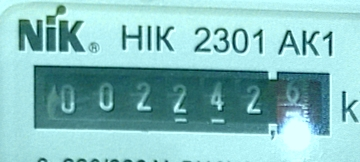0: (58, 82, 78, 115), (97, 80, 115, 113)
2: (171, 81, 189, 115), (135, 80, 154, 112), (245, 83, 262, 115)
4: (210, 80, 225, 112)
6: (285, 78, 301, 105)
screen: (23, 55, 341, 145)
